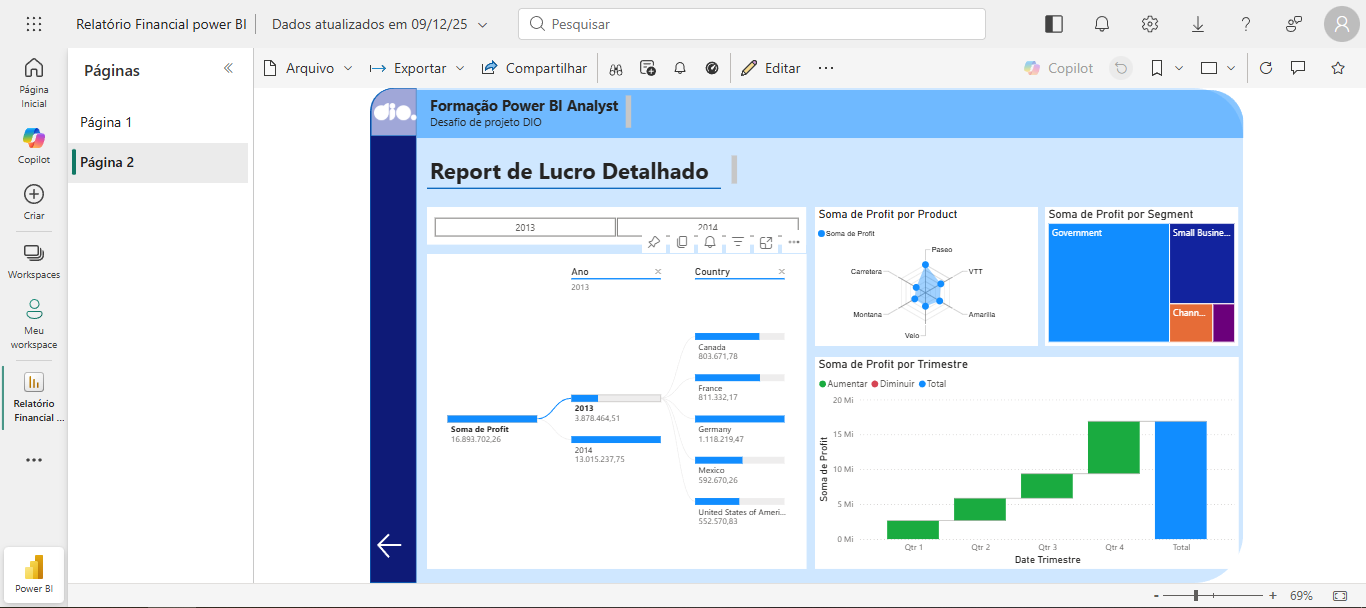

The page's visual inventory and layout, read from the dashboard file:
{"tool":"powerbi","page":{"name":"Página 2","canvas":[1280,720],"ordinal":1},"visuals":[{"type":"shape","box":[0,0,1270.1,720],"z":0},{"type":"shape","box":[0,0,67.7,720],"z":1000},{"type":"shape","box":[1.4,0,66.2,70],"z":2000},{"type":"shape","box":[67.7,2.9,1202.4,70],"z":3000},{"type":"textbox","box":[83.5,5.8,302.4,57.6],"z":4000},{"type":"shape","box":[83.5,119.5,427.7,53.3],"z":5000},{"type":"textbox","box":[83.5,93.6,456.5,51.8],"z":6000},{"type":"shape","box":[83.5,172.8,551.5,54.7],"z":7000},{"type":"shape","box":[83.5,241.9,551.5,457.9],"z":8000},{"type":"shape","box":[646.6,172.8,302.4,201.6],"z":9000},{"type":"shape","box":[982.1,172.8,280.8,201.6],"z":10000},{"type":"shape","box":[646.6,391.7,616.3,308.2],"z":11000},{"type":"image","title":"DIO","box":[5.8,2.9,61.9,63.4],"z":12000},{"type":"slicer","fields":{"Values":["financials.Date.Variation.Hierarquia de datas.Ano"]},"box":[67.7,181.4,578.9,37.4],"z":13000},{"type":"RadarChart1446119667547","fields":{"Y":["Sum(financials.Profit)"],"Category":["financials.Product"]},"box":[646.6,172.8,322.6,201.6],"z":14000},{"type":"treemap","fields":{"Values":["Sum(financials.Profit)"],"Group":["financials.Segment"]},"box":[982.1,172.8,280.8,201.6],"z":15000},{"type":"waterfallChart","fields":{"Category":["financials.Date.Variation.Hierarquia de datas.Trimestre"],"Y":["Sum(financials.Profit)"]},"box":[646.6,391.7,616.3,308.2],"z":16000},{"type":"decompositionTreeVisual","fields":{"Analyze":["Sum(financials.Profit)"],"ExplainBy":["financials.Date.Variation.Hierarquia de datas.Ano","financials.Country"]},"box":[83.5,241.9,551.5,457.9],"z":17000},{"type":"actionButton","box":[5.8,642.2,61.9,46.1],"z":18000}]}

Visuals, with their boxes on the page's 1280x720 design canvas (x1, y1, x2, y2). These are canvas units, not pixel positions in the 1366x608 screenshot, which may show the page scaled, cropped or inside an application window:
shape: x1=0, y1=0, x2=1270, y2=720
shape: x1=0, y1=0, x2=68, y2=720
shape: x1=1, y1=0, x2=68, y2=70
shape: x1=68, y1=3, x2=1270, y2=73
textbox: x1=84, y1=6, x2=386, y2=63
shape: x1=84, y1=120, x2=511, y2=173
textbox: x1=84, y1=94, x2=540, y2=145
shape: x1=84, y1=173, x2=635, y2=228
shape: x1=84, y1=242, x2=635, y2=700
shape: x1=647, y1=173, x2=949, y2=374
shape: x1=982, y1=173, x2=1263, y2=374
shape: x1=647, y1=392, x2=1263, y2=700
"DIO" image: x1=6, y1=3, x2=68, y2=66
slicer - financials.Date.Variation.Hierarquia de datas.Ano: x1=68, y1=181, x2=647, y2=219
RadarChart1446119667547 - Sum(financials.Profit) x financials.Product: x1=647, y1=173, x2=969, y2=374
treemap - Sum(financials.Profit) x financials.Segment: x1=982, y1=173, x2=1263, y2=374
waterfallChart - financials.Date.Variation.Hierarquia de datas.Trimestre x Sum(financials.Profit): x1=647, y1=392, x2=1263, y2=700
decompositionTreeVisual - Sum(financials.Profit) x financials.Date.Variation.Hierarquia de datas.Ano: x1=84, y1=242, x2=635, y2=700
actionButton: x1=6, y1=642, x2=68, y2=688
